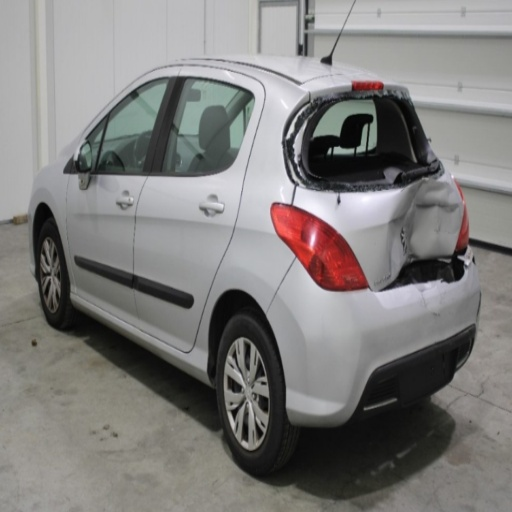dent: (387, 178, 462, 282)
